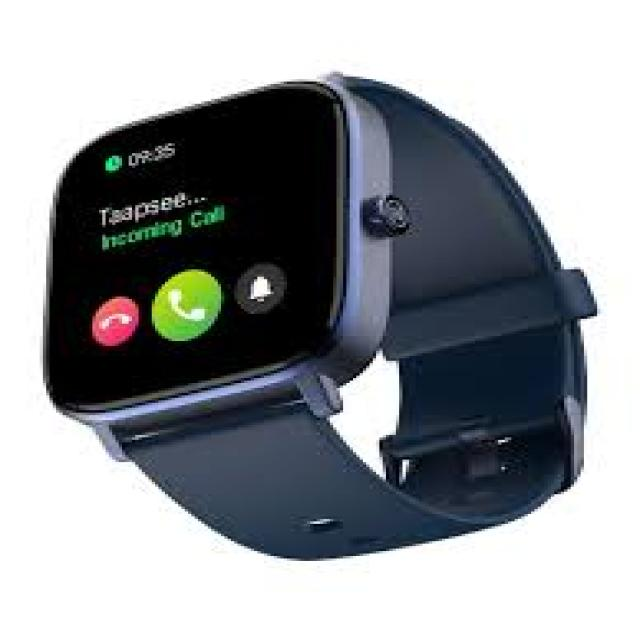objects: (39, 74, 584, 556)
